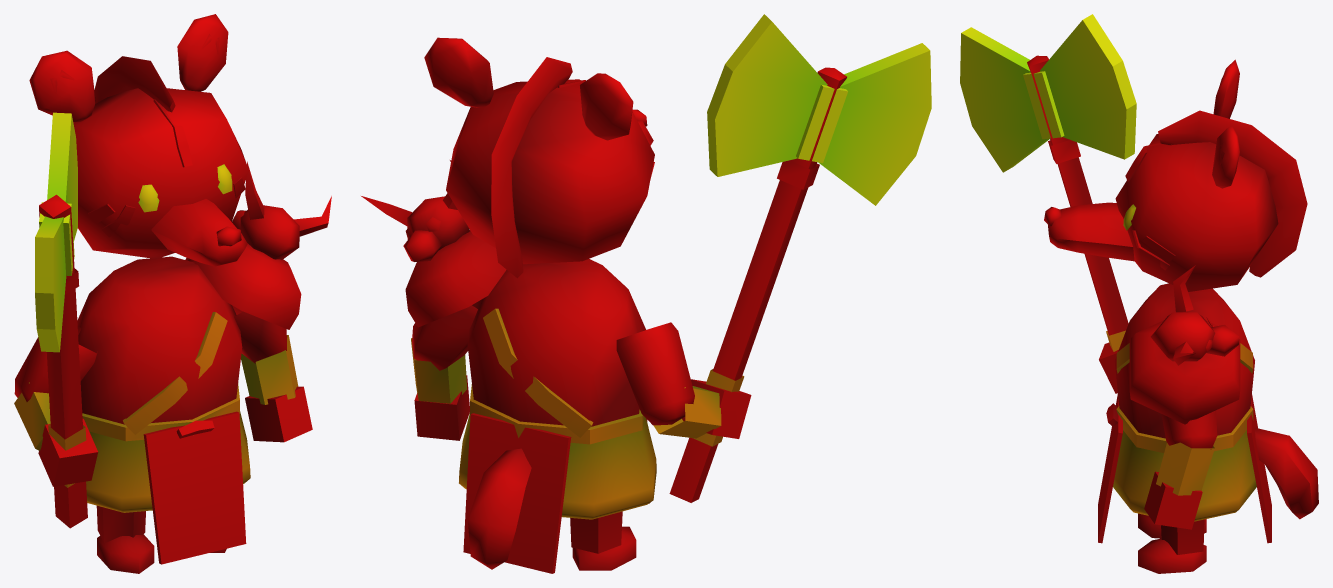
The model's file is GnollBerserk_LOD1.glb.
3 views of the same model, side by side, from view 1: azimuth 30°, elevation 25°; view 2: azimuth 150°, elevation 25°; view 3: azimuth 270°, elevation 25° (orthographic). The views are drawn at different scales.
Parts seen in each view (by area): view 1: GnollBerserk_LOD1; view 2: GnollBerserk_LOD1; view 3: GnollBerserk_LOD1.
Boxes of the visible parts, bbox=[...] form: GnollBerserk_LOD1: bbox=[14, 14, 331, 573]; GnollBerserk_LOD1: bbox=[361, 14, 931, 573]; GnollBerserk_LOD1: bbox=[960, 14, 1318, 573].
Size of the model in its own units: 0.775 by 0.8991 by 0.6252.
